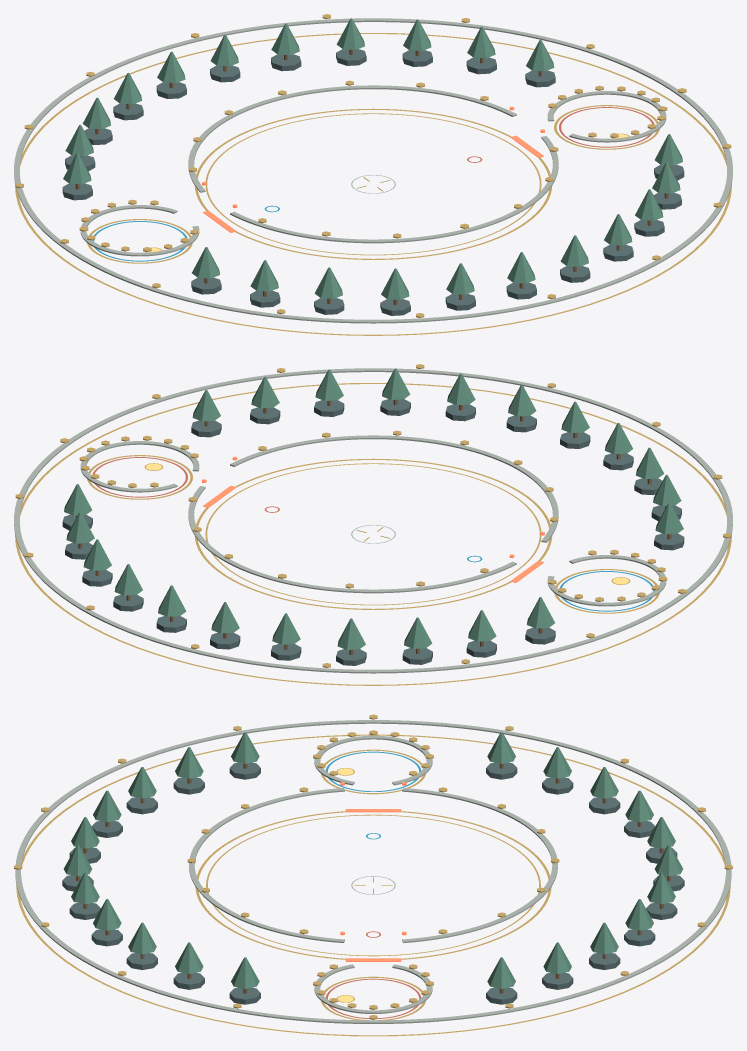
File: SM_R02A_Inlays_and_Decoration.fbx
3 renders of one model, top to bottom at view 1: azimuth 30°, elevation 25°; view 2: azimuth 150°, elevation 25°; view 3: azimuth 270°, elevation 25°, orthographic.
Visible parts, largest first — view 1: SM_R02A_Inlays_and_Decoration; view 2: SM_R02A_Inlays_and_Decoration; view 3: SM_R02A_Inlays_and_Decoration.
Boxes of the visible parts, x1,y1,x2,y2 form: SM_R02A_Inlays_and_Decoration: (14,14,732,335); SM_R02A_Inlays_and_Decoration: (14,364,732,685); SM_R02A_Inlays_and_Decoration: (14,714,732,1036).
Bounding box in the file's own units: 80.44 × 80.3 × 5.
